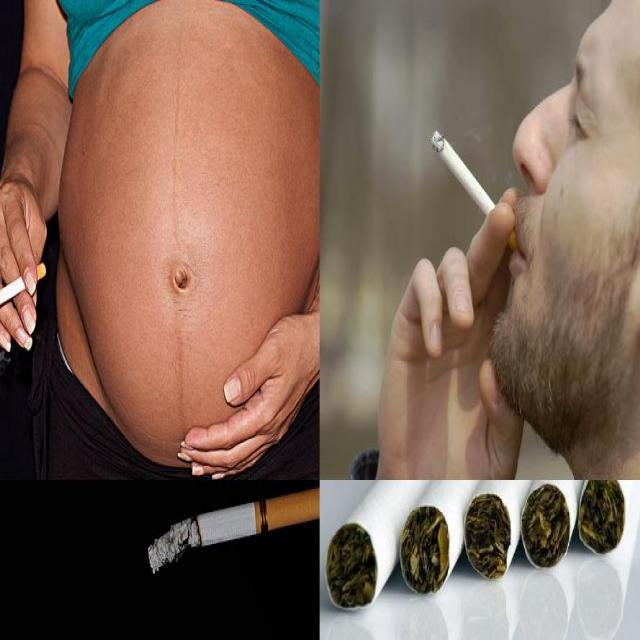cigarette: (324, 480, 486, 612), (145, 487, 319, 578), (400, 479, 534, 596), (430, 128, 526, 262), (463, 480, 578, 582), (520, 480, 617, 571), (578, 480, 640, 557), (0, 261, 48, 314)
